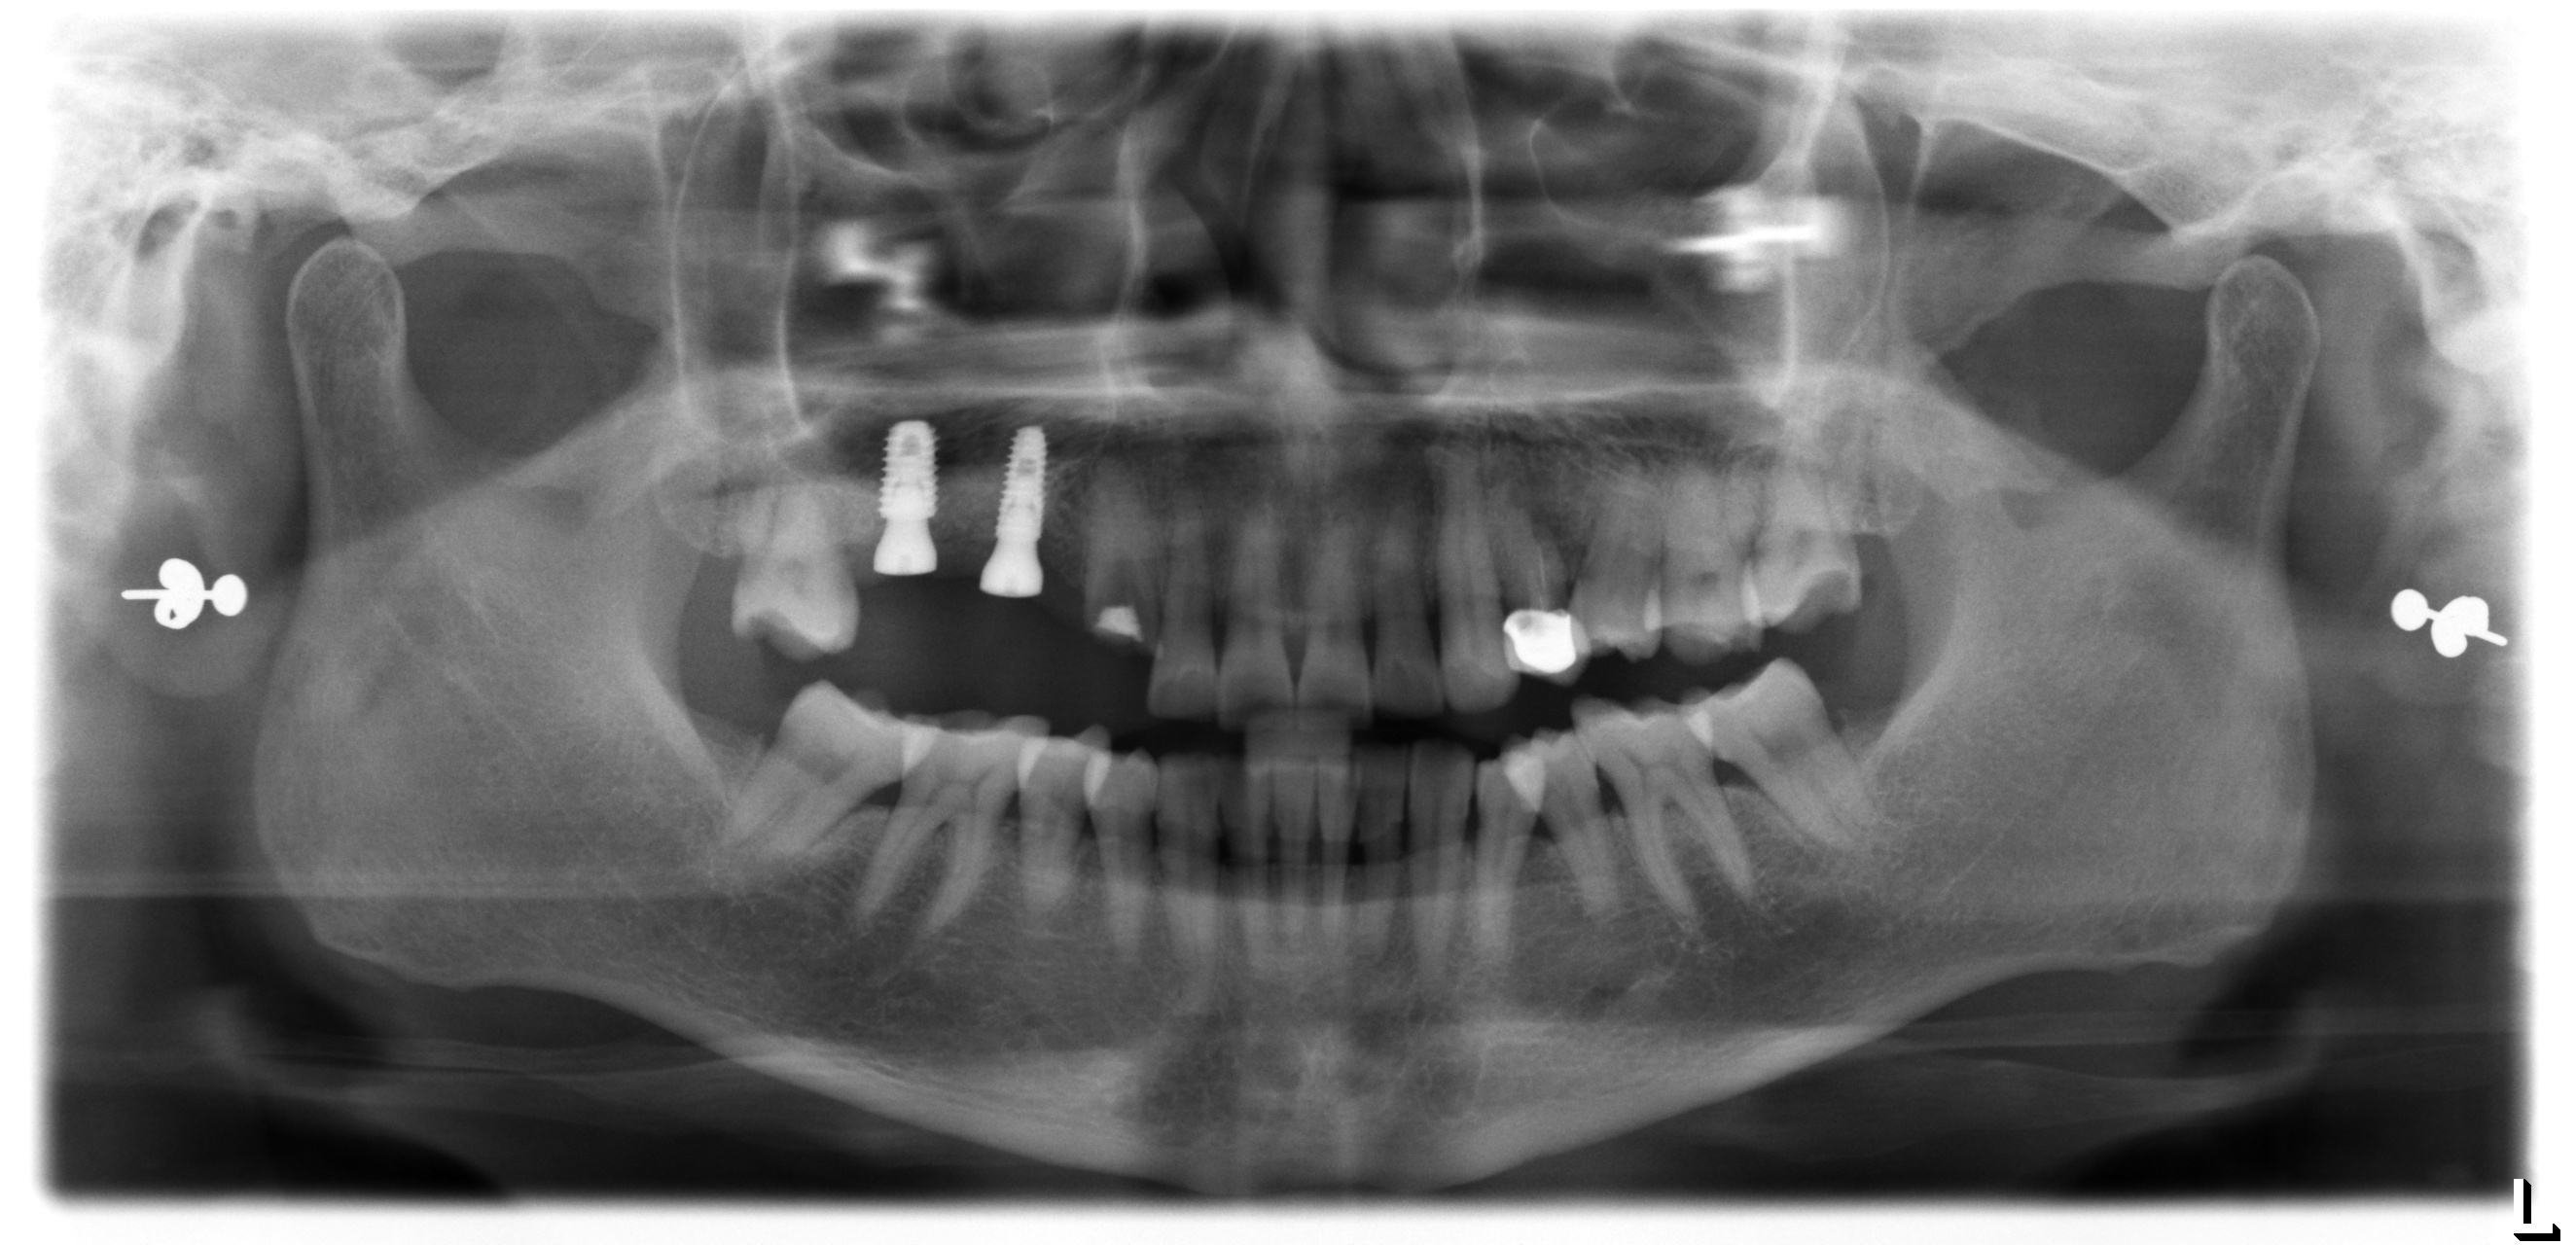Decay: (1773, 554, 1868, 634), (1079, 577, 1147, 654)
